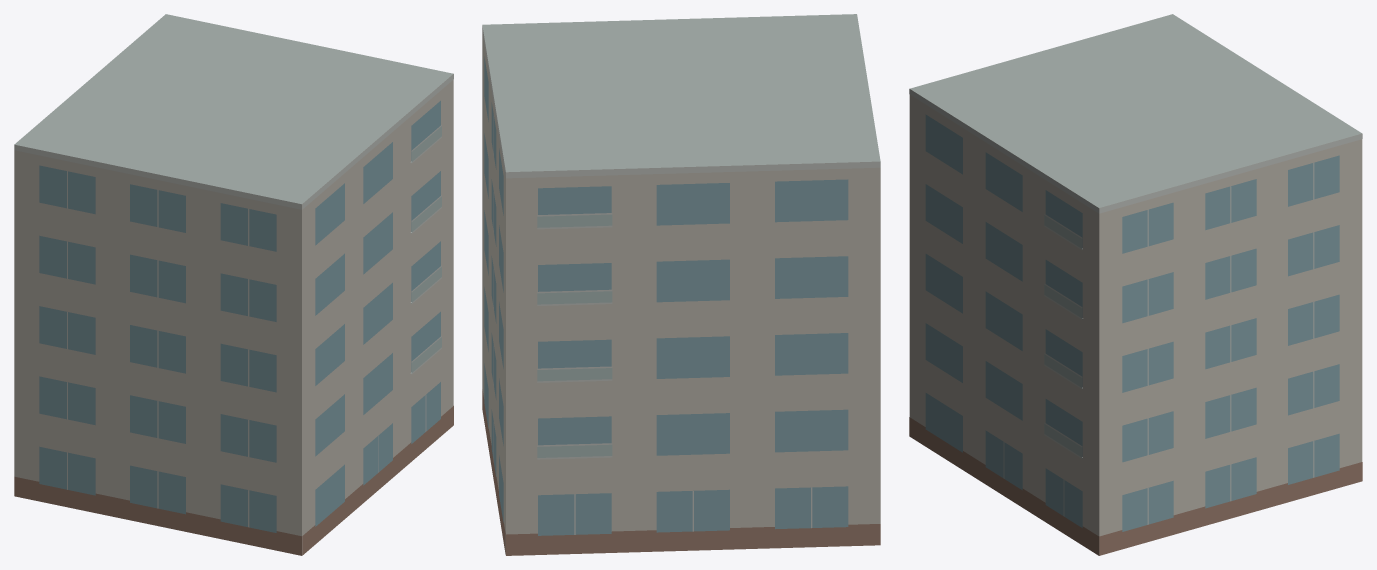
File: residential-ff6fd4c1-c13d-4a79-906a-70e7eb9f5f43.glb
3 views of the same model, side by side, from view 1: azimuth 30°, elevation 25°; view 2: azimuth 150°, elevation 25°; view 3: azimuth 270°, elevation 25° (orthographic). The views are drawn at different scales.
Parts seen in each view (by area): view 1: residential-ff6fd4c1-c13d-4a79-906a-70e7eb9f5f43.tmp; view 2: residential-ff6fd4c1-c13d-4a79-906a-70e7eb9f5f43.tmp; view 3: residential-ff6fd4c1-c13d-4a79-906a-70e7eb9f5f43.tmp.
Part boxes in pixels (x1,y1,x2,y2): residential-ff6fd4c1-c13d-4a79-906a-70e7eb9f5f43.tmp: [14, 14, 453, 555]; residential-ff6fd4c1-c13d-4a79-906a-70e7eb9f5f43.tmp: [482, 14, 880, 555]; residential-ff6fd4c1-c13d-4a79-906a-70e7eb9f5f43.tmp: [909, 14, 1362, 555].
Bounding box in the file's own units: 18.27 × 15.25 × 18.01.
